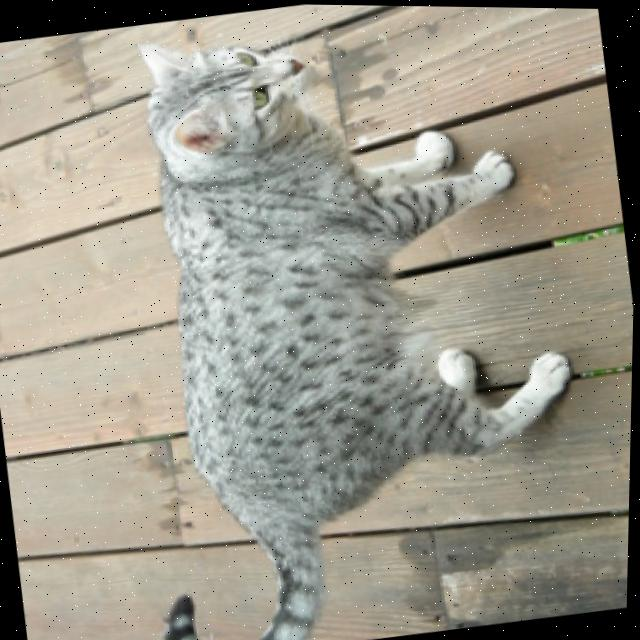Egyptian Mau: (75, 1, 614, 640)
